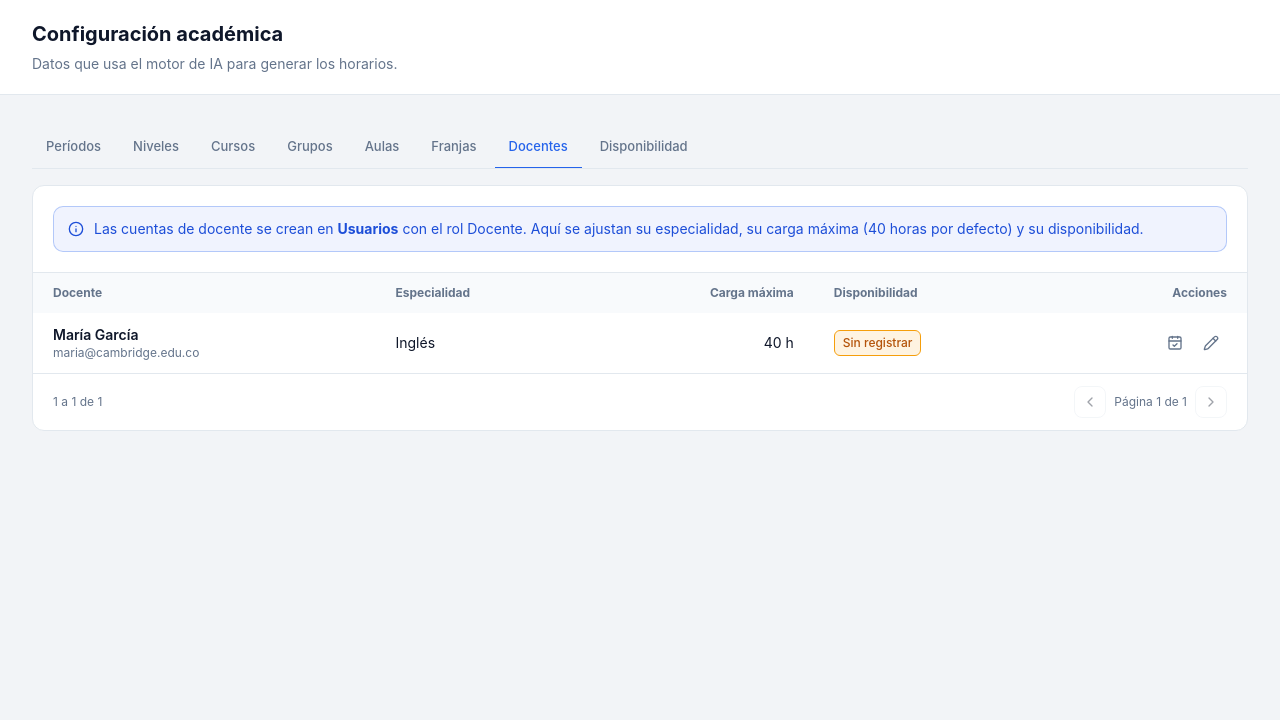
Test: Configuración académica (RF-09 a RF-16) › abre la disponibilidad de un docente desde su fila y la guarda
The image size is (1280, 720).
Expected: the text "Sin registrar" is shown, 834,330 -> 922,356
Click the button named "Disponibilidad de María García": coordinates (1175, 342) 1159,326 -> 1191,358
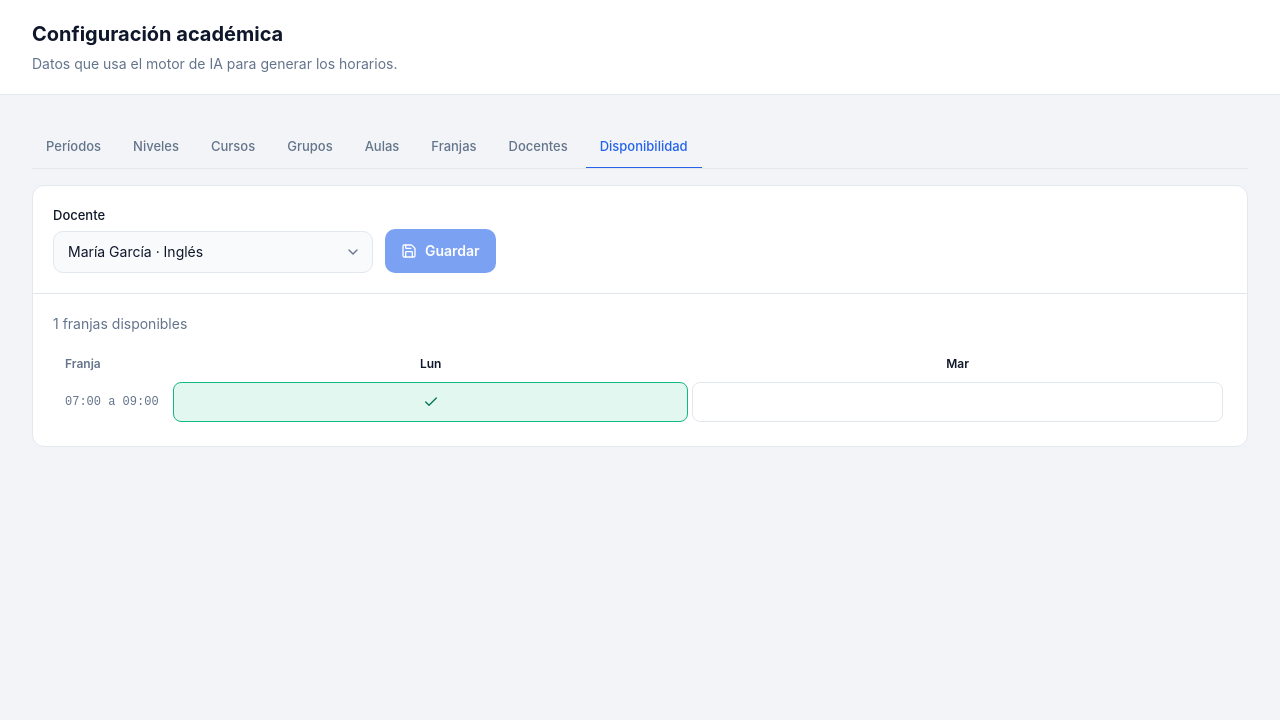
Expected: the tab "Disponibilidad" is selected, 586,127 -> 702,168
Expected: the button named "Lunes 07:00 a 09:00: disponible" is pressed, 173,382 -> 688,422
Click the button named "Martes 07:00 a 09:00: no disponible": coordinates (958, 402) 692,382 -> 1223,422
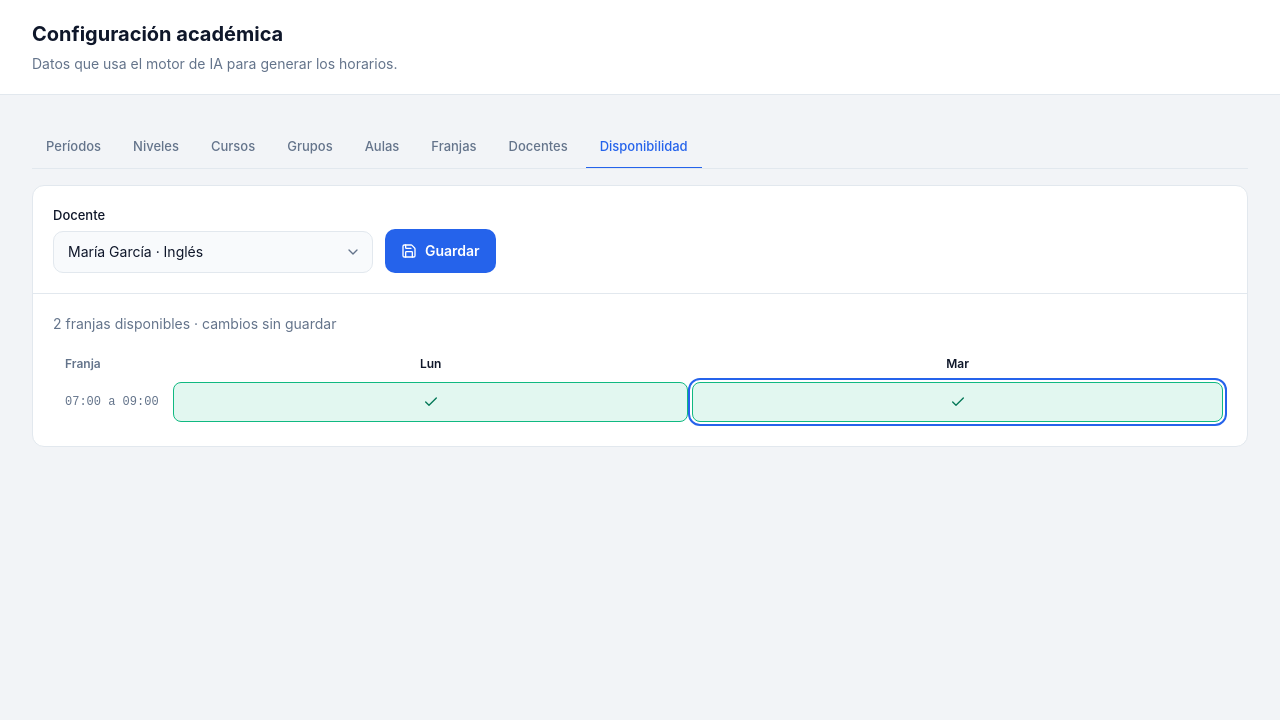
Click the button "Guardar": coordinates (440, 251) 385,229 -> 496,273
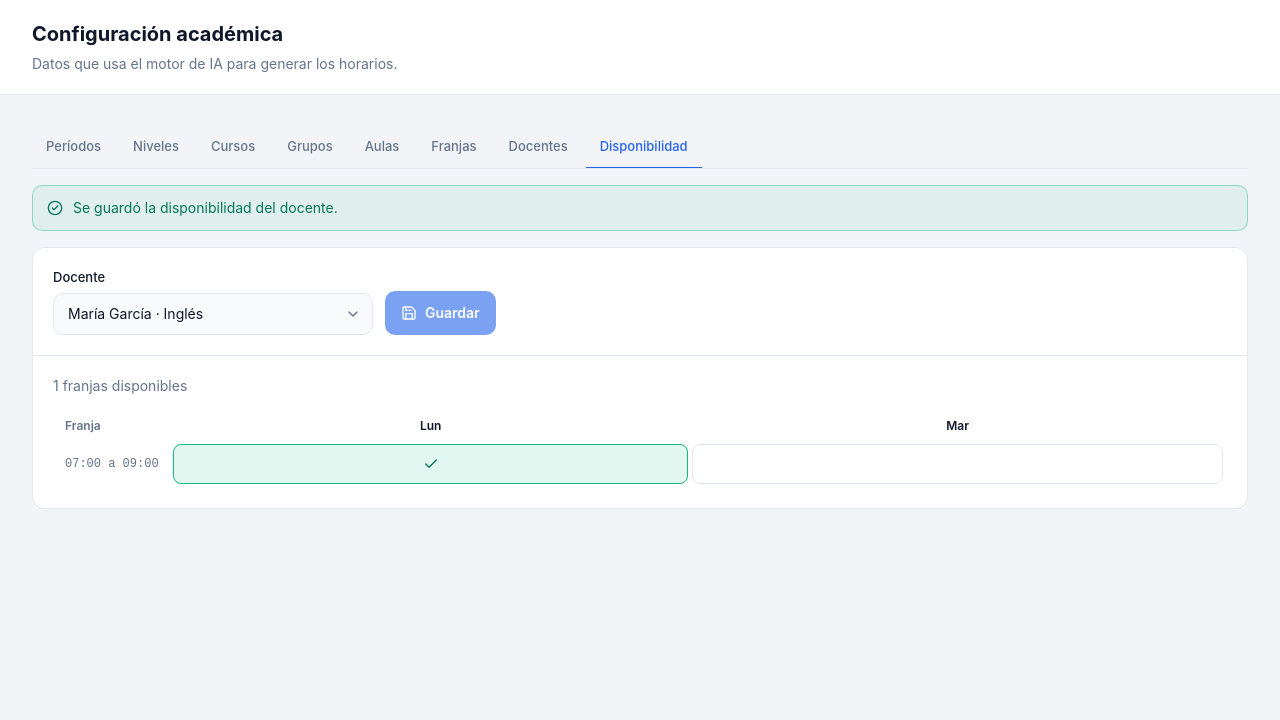
Expected: the text "Se guardó la disponibilidad del docente." is shown, 73,198 -> 338,218
